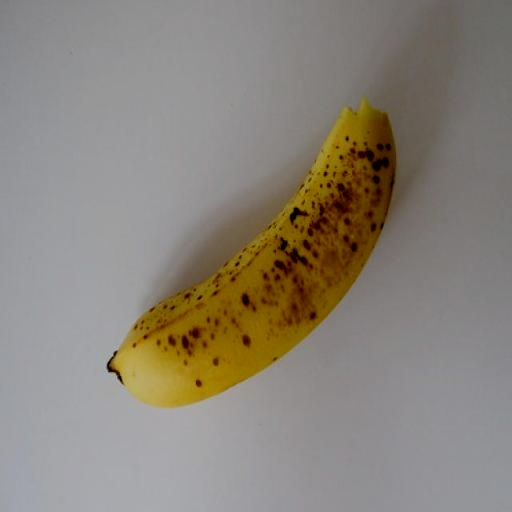fruit: (108, 100, 395, 406)
